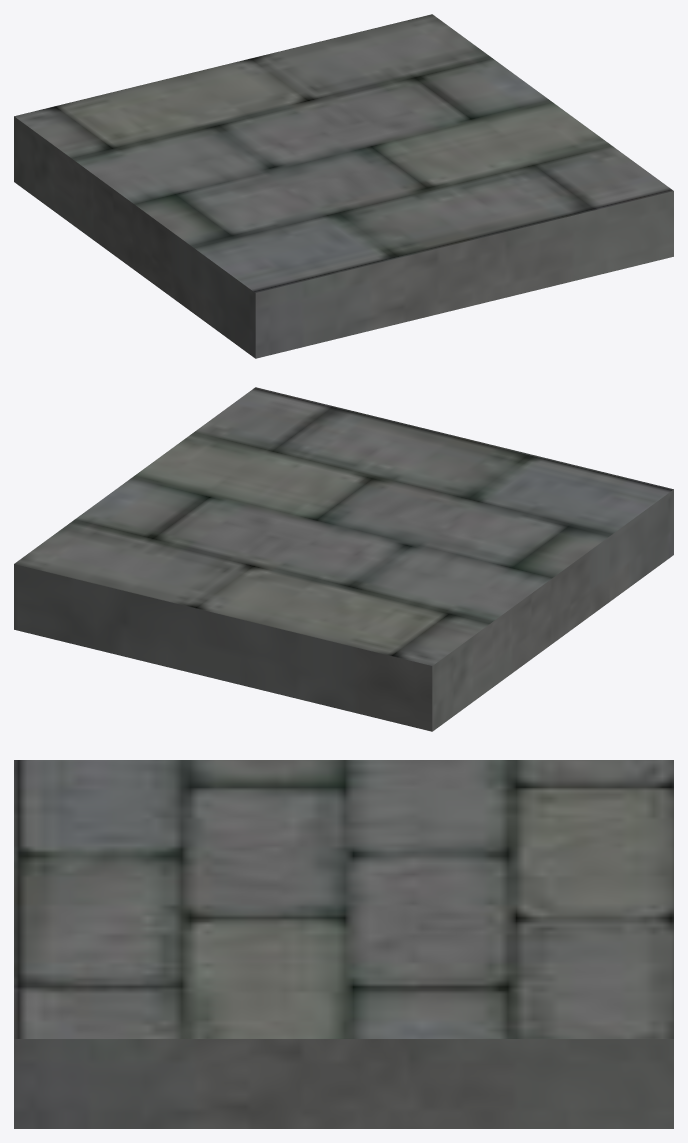
The model's file is sd_floor_small_01.glb.
3 renders of one model, top to bottom at view 1: azimuth 30°, elevation 25°; view 2: azimuth 150°, elevation 25°; view 3: azimuth 270°, elevation 25°, orthographic. The views are drawn at different scales.
Parts seen in each view (by area): view 1: floor_small_01; view 2: floor_small_01; view 3: floor_small_01.
Part boxes in pixels (x1=…): floor_small_01: x1=14, y1=14, x2=673, y2=358; floor_small_01: x1=14, y1=387, x2=673, y2=731; floor_small_01: x1=14, y1=760, x2=673, y2=1128.
Bounding box in the file's own units: 2 × 0.3001 × 2.
Materials: 1 (1 with a texture image).
